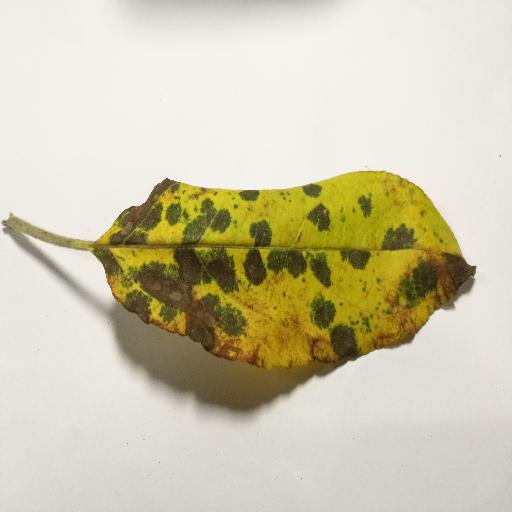Brown_Spot: (83, 250, 253, 362), (106, 176, 181, 242), (399, 252, 481, 312)
